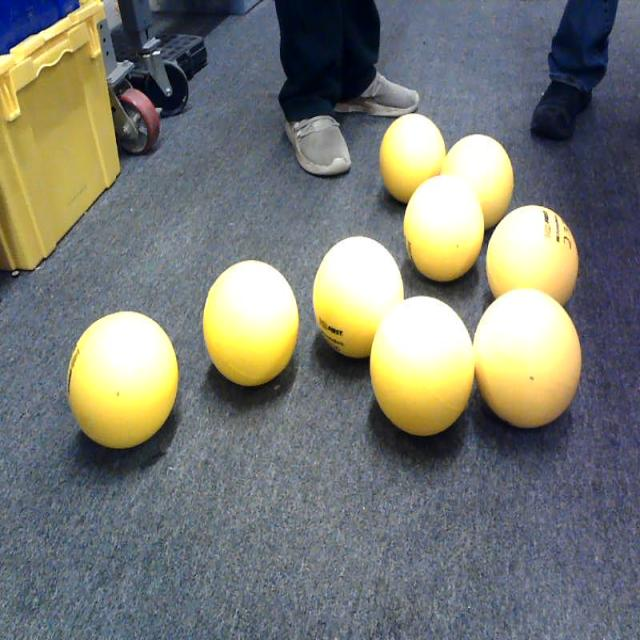Fuel: (66, 310, 178, 450), (472, 288, 582, 430), (370, 296, 475, 437), (202, 259, 300, 387), (313, 235, 404, 359), (486, 205, 578, 312), (404, 174, 484, 282), (441, 134, 514, 231), (379, 113, 446, 205)
